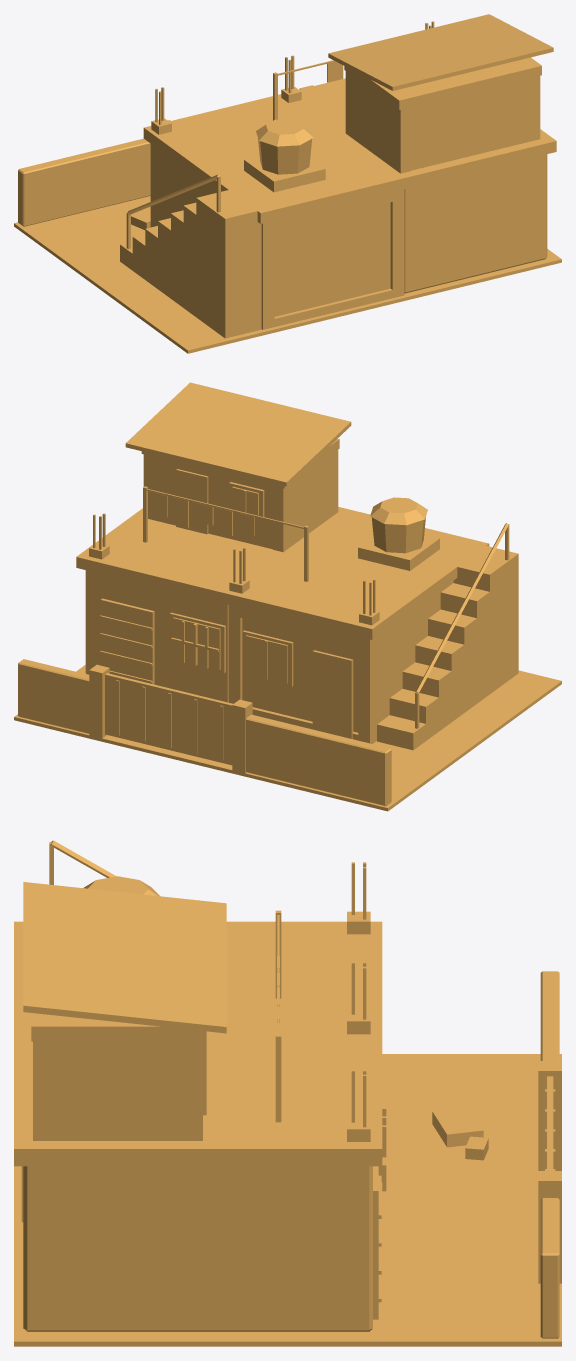
3 renders of one model, top to bottom at view 1: azimuth 30°, elevation 25°; view 2: azimuth 150°, elevation 25°; view 3: azimuth 270°, elevation 25°, orthographic. The views are drawn at different scales.
Parts seen in each view (by area): view 1: corpo; view 2: corpo; view 3: corpo.
Part boxes in pixels (left/top/right/bottom): corpo: left=14, top=14, right=561, bottom=353; corpo: left=14, top=382, right=561, bottom=811; corpo: left=14, top=840, right=561, bottom=1346.
Bounding box in the file's own units: 1.44 × 0.787 × 1.16.
